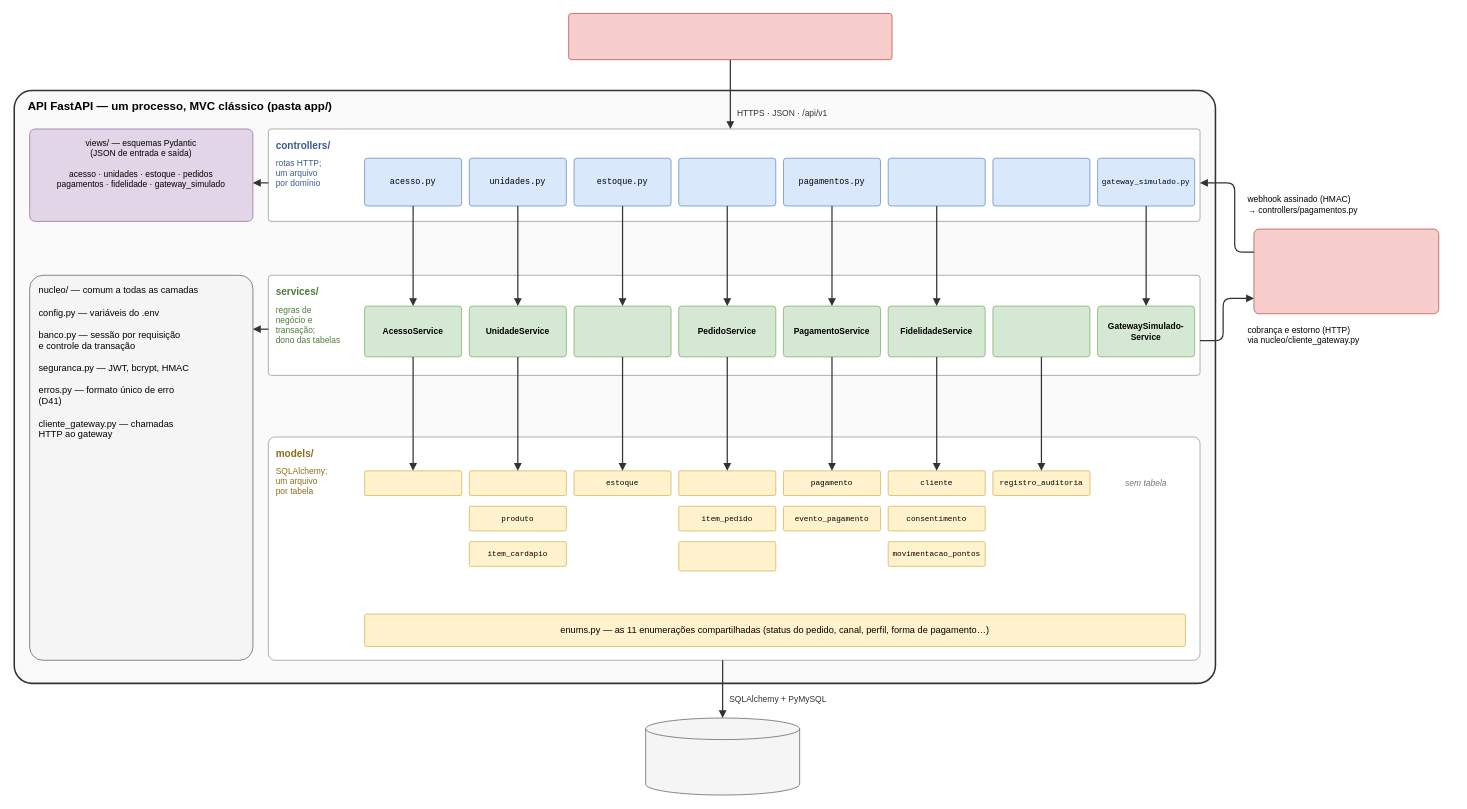
Some shapes in this 1467 by 809 pixel diagram are drawn without their labels. Each missing label, with the centre of its shape:
AuditoriaService (sem rota): (1041,331)
Canais: app · totem · balcão · painel de gestão: (730,36)
EstoqueService: (622,331)
fidelidade.py: (936,181)
Gateway de pagamento (externo) em teste: gateway_simulado: (1346,271)
historico_status_ pedido: (727,556)
MySQL 8: (722,756)
pedido: (727,482)
pedidos.py: (727,181)
saude.py (health): (1041,181)
unidade: (517,482)
usuario: (413,482)
